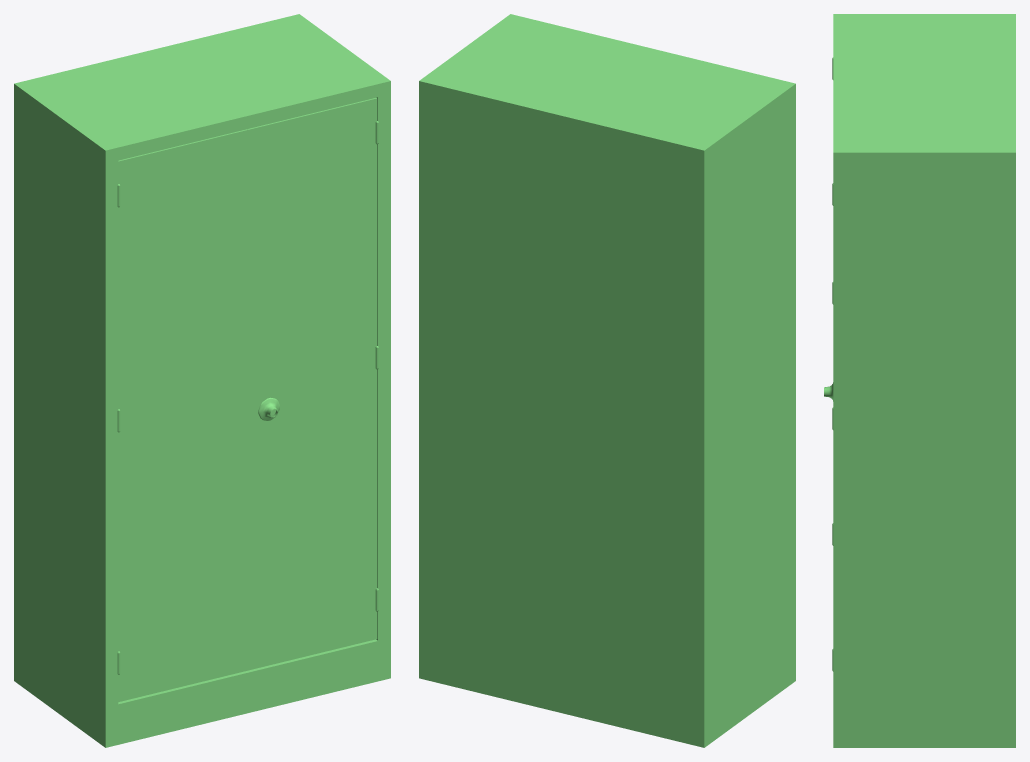
Rendered from Armario Vacio 1.fbx.
3 views of the same model, side by side, from view 1: azimuth 30°, elevation 25°; view 2: azimuth 150°, elevation 25°; view 3: azimuth 270°, elevation 25° (orthographic).
Visible parts, largest first — view 1: Armario_Vacio_1; view 2: Armario_Vacio_1; view 3: Armario_Vacio_1.
Boxes of the visible parts, left/top/right/bottom form: Armario_Vacio_1: left=14, top=14, right=390, bottom=747; Armario_Vacio_1: left=419, top=14, right=795, bottom=747; Armario_Vacio_1: left=824, top=14, right=1015, bottom=747.
Bounding box in the file's own units: 0.9 × 1.8 × 0.5258.
